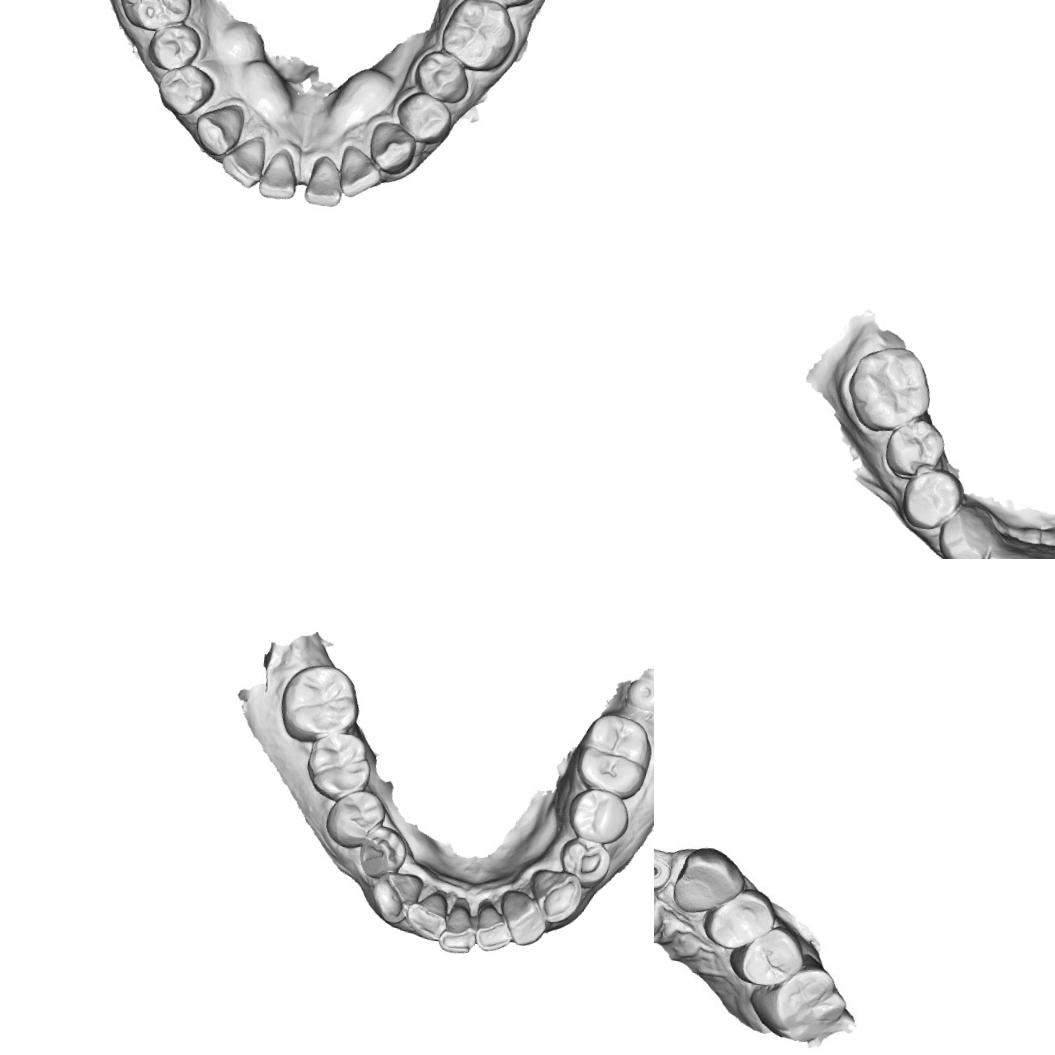canine: (672, 840, 750, 921), (524, 866, 586, 930), (934, 499, 998, 559), (364, 866, 425, 927), (189, 97, 247, 161), (364, 118, 420, 178)
implant: (622, 673, 654, 714), (654, 853, 671, 895)
incisor: (217, 132, 271, 194), (334, 142, 386, 204), (436, 894, 482, 956), (400, 886, 450, 942), (502, 892, 550, 949), (254, 148, 302, 204), (471, 898, 517, 955), (300, 154, 346, 210), (981, 544, 1027, 559), (1020, 541, 1055, 559)
molar: (744, 956, 854, 1048), (842, 339, 938, 438), (278, 658, 365, 748), (572, 707, 654, 801), (436, 0, 522, 77), (302, 728, 379, 806), (114, 0, 199, 36)
premolar: (724, 919, 809, 996), (700, 884, 778, 954), (898, 464, 966, 535), (882, 408, 944, 478), (390, 88, 458, 148), (566, 784, 631, 846), (151, 60, 218, 120), (326, 787, 388, 851), (408, 45, 473, 106), (139, 18, 205, 76), (353, 820, 412, 882), (558, 833, 614, 889)
